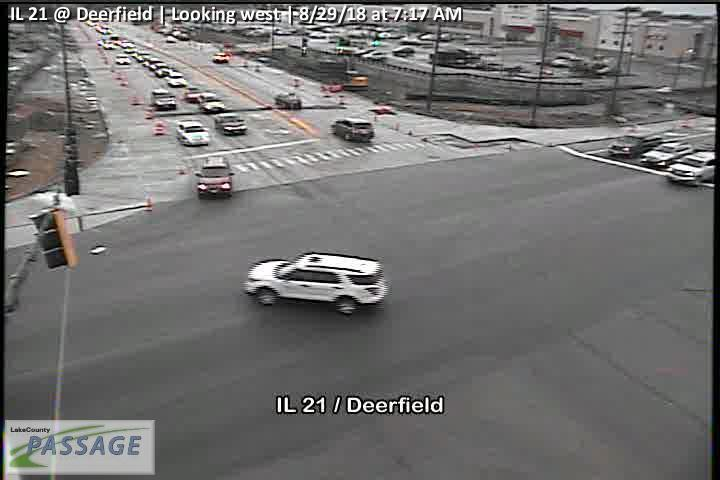SUV: (245, 252, 387, 316), (197, 158, 233, 198), (333, 119, 375, 143)
Sedan: (665, 150, 714, 188), (642, 140, 691, 170), (607, 132, 657, 156), (176, 120, 210, 146), (212, 114, 246, 134), (151, 89, 176, 109), (272, 92, 300, 108), (213, 52, 230, 62)
